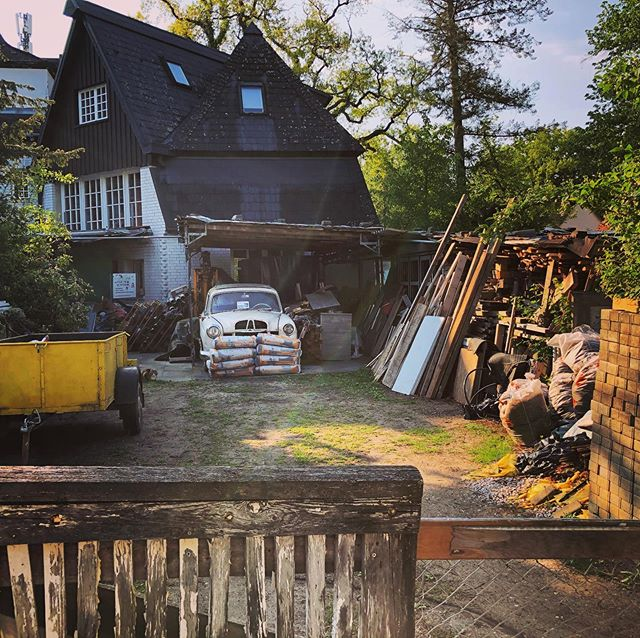building: (48, 16, 362, 367)
trash: (343, 230, 610, 466)
tree: (371, 1, 534, 217)
